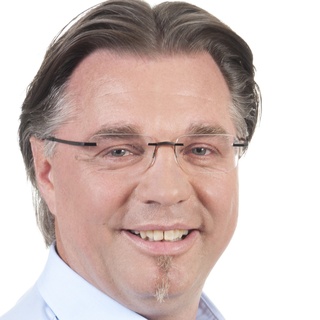eye: (95, 141, 144, 164), (173, 140, 221, 162)
